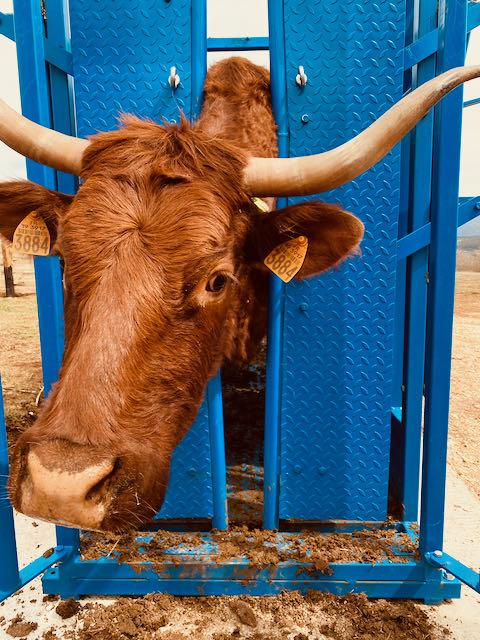muzzles: (4, 437, 156, 537)
